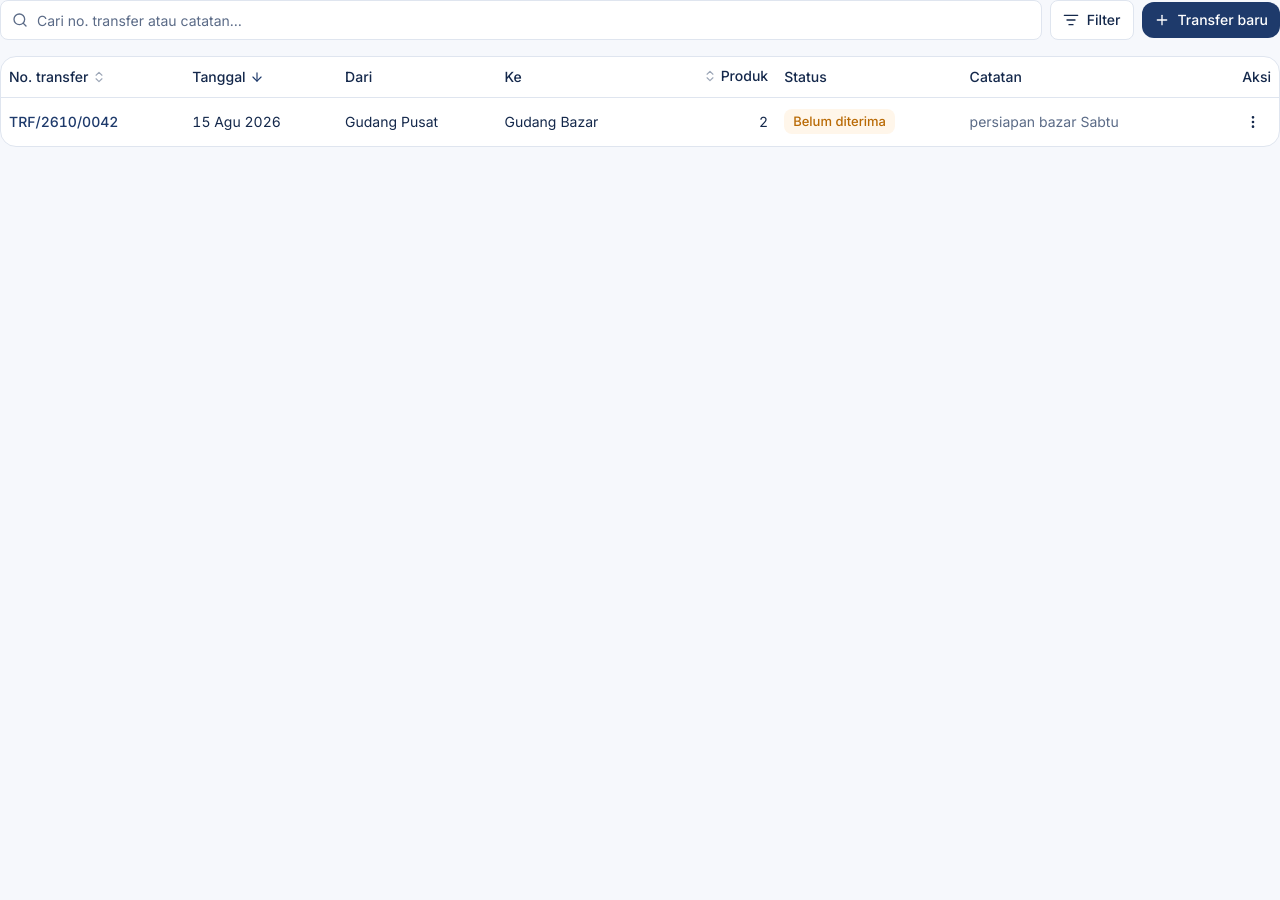
Test: narrows on the server when a warehouse is applied
Click the button "Filter": (1092, 20) [1050,0,1134,40]
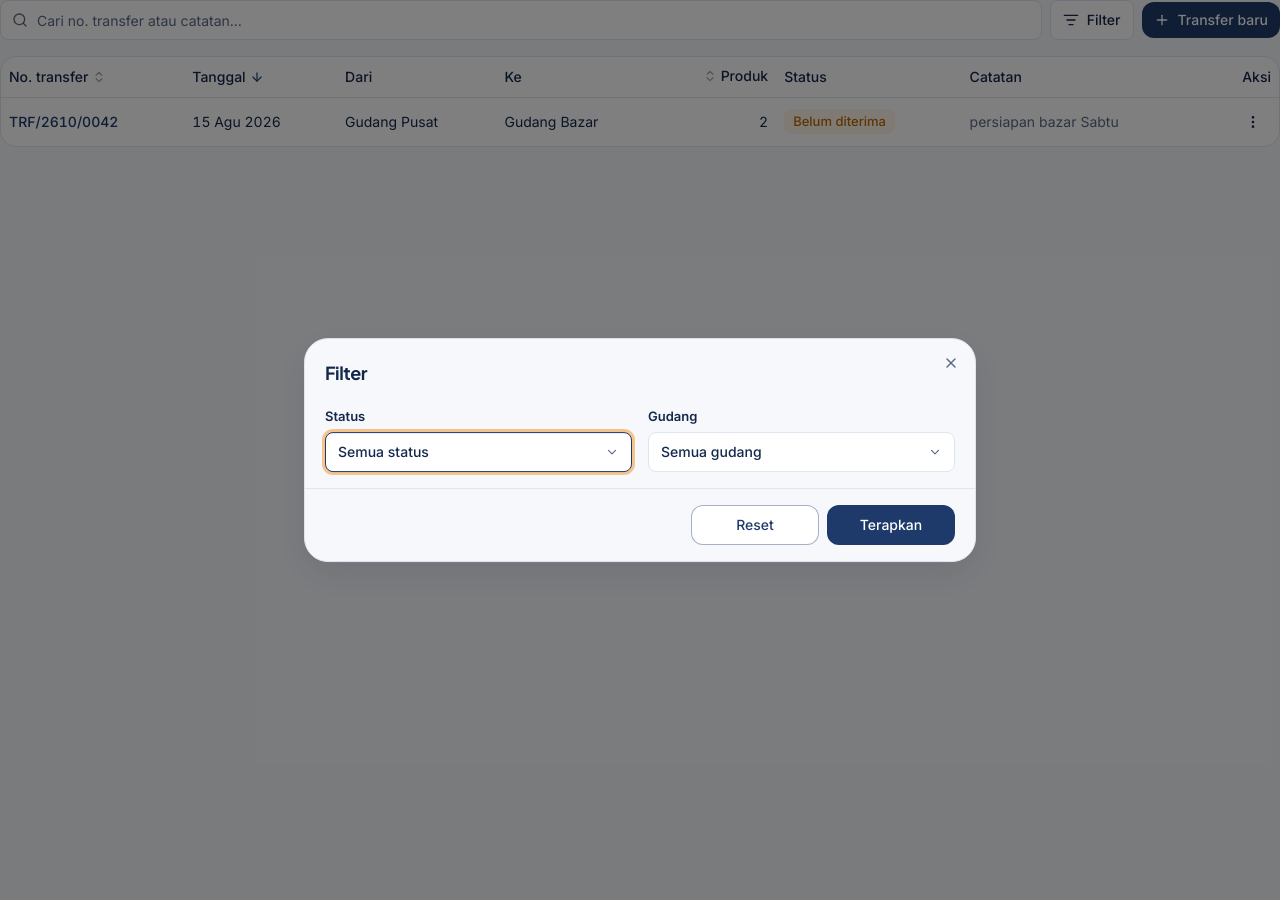
Click the button with aria-label "Filter gudang — asal maupun tujuan": (711, 451) [648,432,955,472]
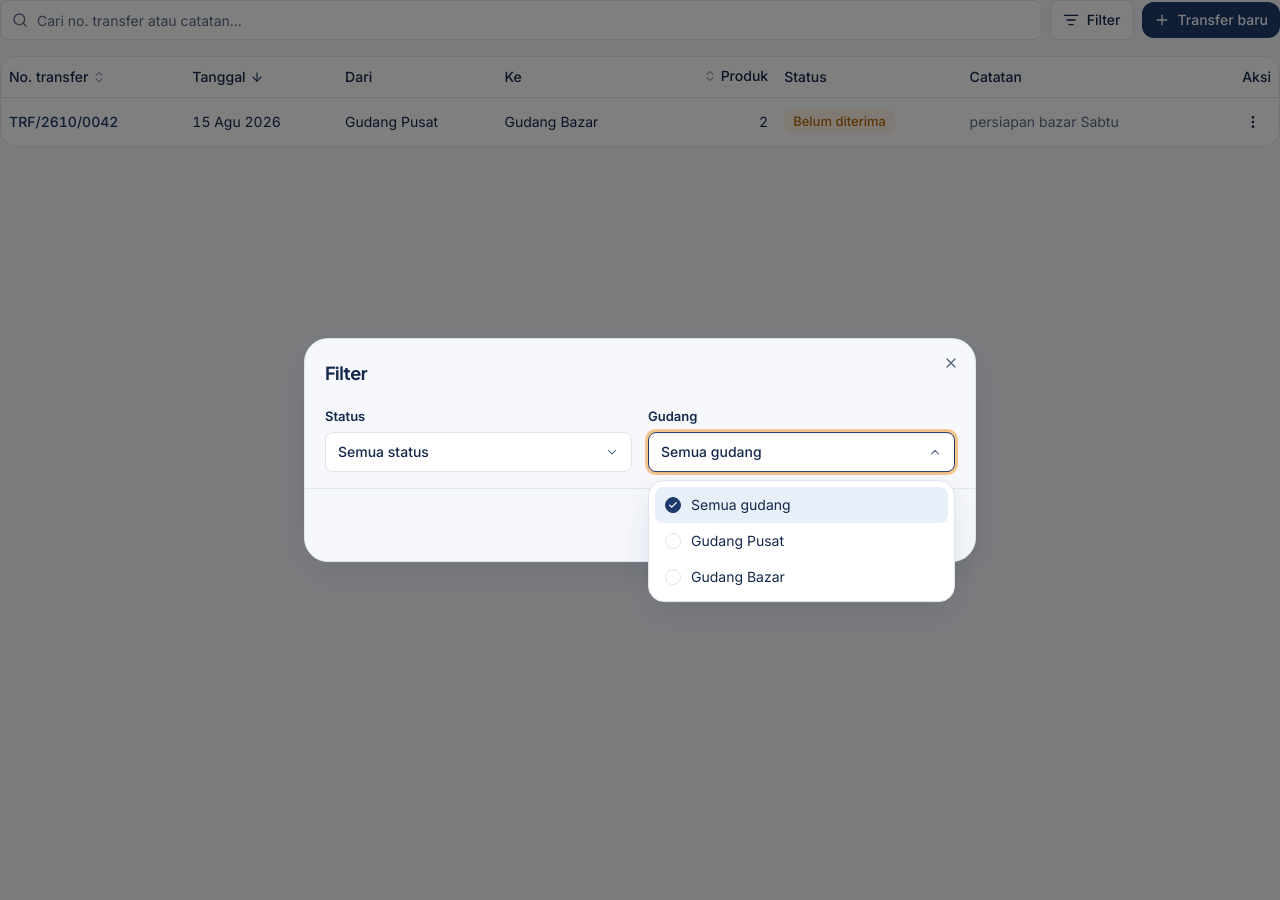
Click the option "Gudang Bazar": (725, 577) [665,568,785,585]
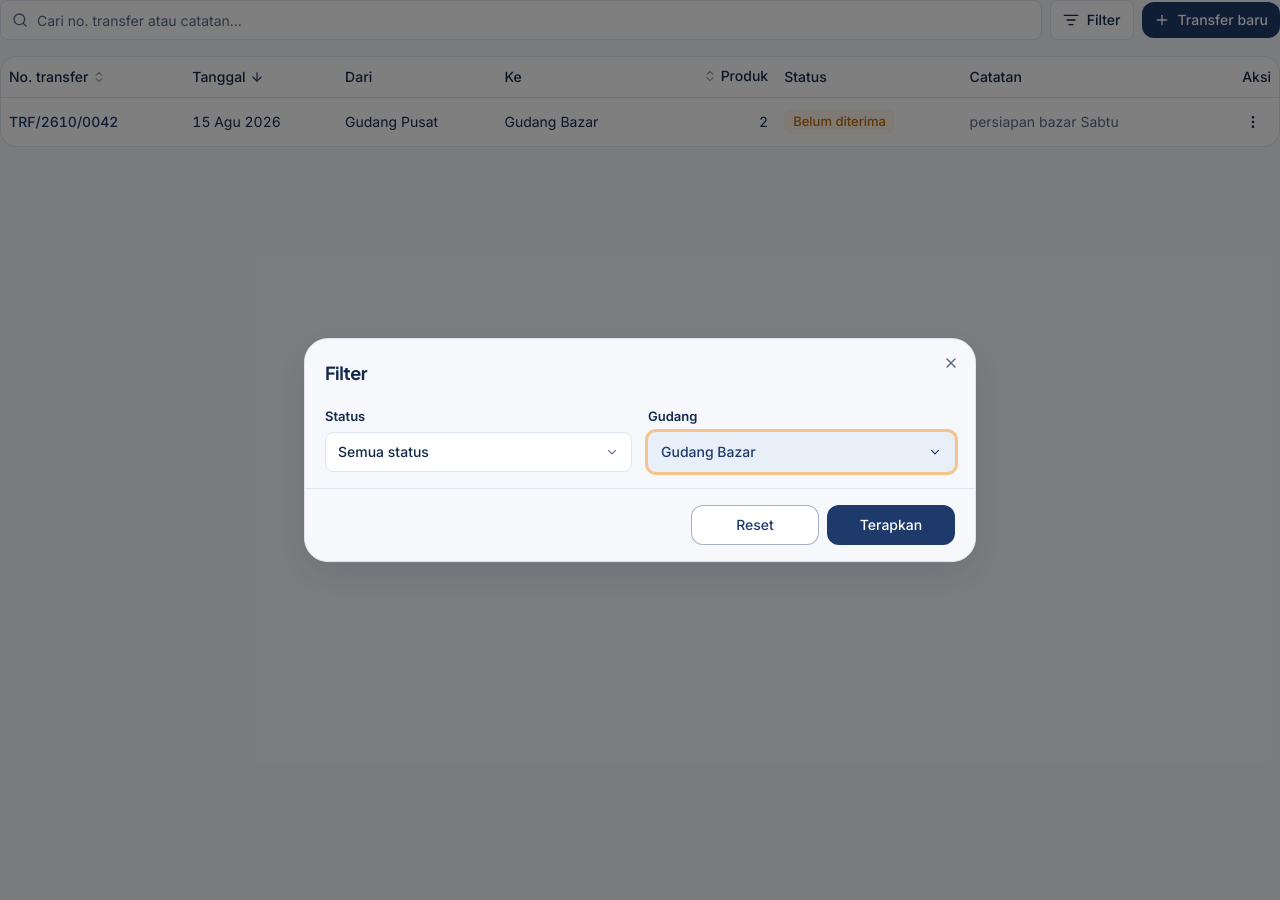
Click the button "Terapkan": (891, 525) [827,505,955,545]
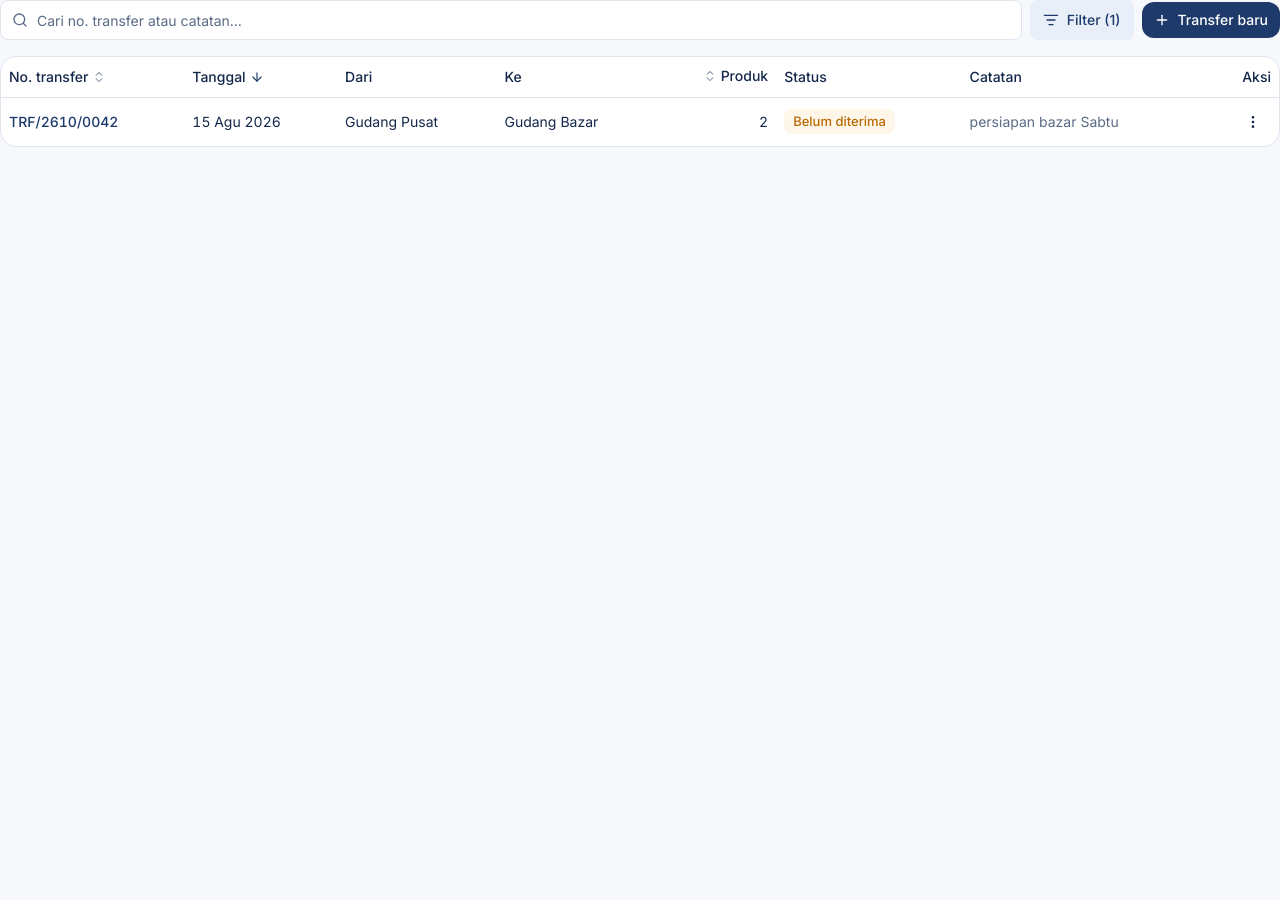
Expected: the button "Filter (1)" is shown, [1030,0,1134,40]
